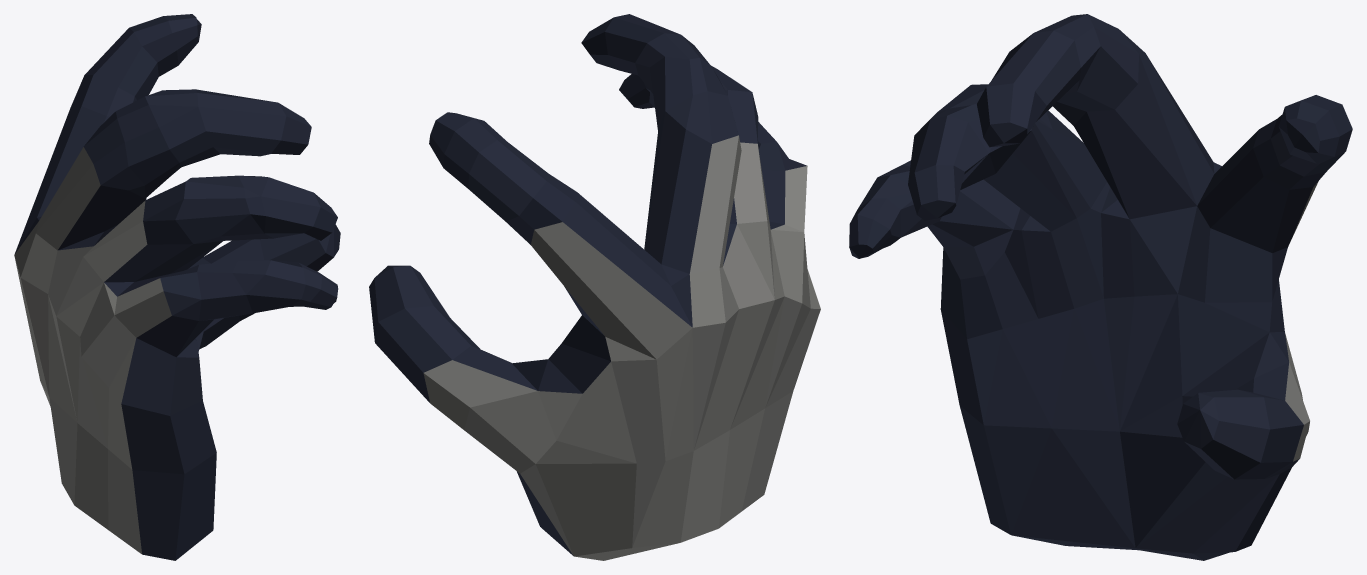
The model's file is Hand_Closed_Spraycan.fbx.
The picture shows the model from 3 angles, left to right: view 1: azimuth 30°, elevation 25°; view 2: azimuth 150°, elevation 25°; view 3: azimuth 270°, elevation 25°; orthographic projection. The views are drawn at different scales.
Visible parts, largest first — view 1: Spraycan; view 2: Spraycan; view 3: Spraycan.
Part boxes in pixels (bbox=[...]): Spraycan: bbox=[14, 14, 340, 560]; Spraycan: bbox=[369, 14, 820, 560]; Spraycan: bbox=[849, 14, 1352, 560].
Size of the model in its own units: 17.59 by 22.77 by 19.33.
